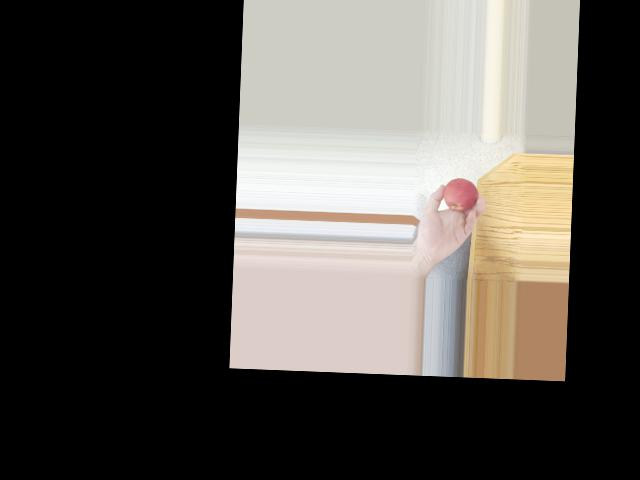apple: (441, 177, 479, 214)
